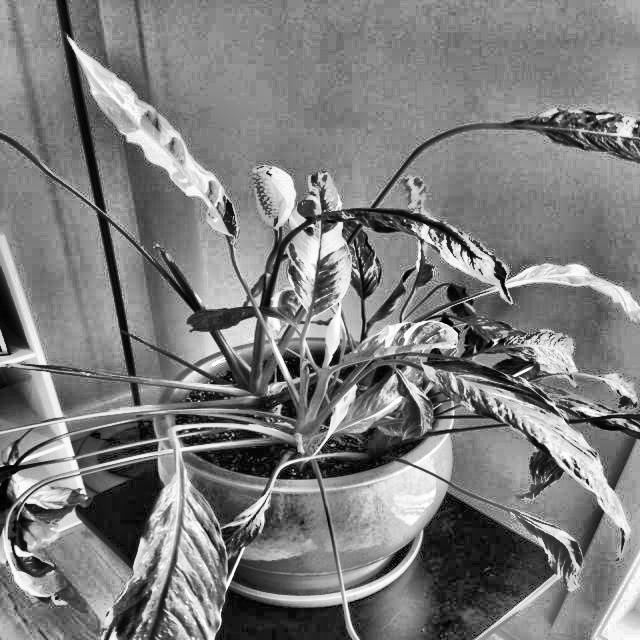plants: (18, 48, 640, 640), (336, 308, 640, 620), (0, 398, 106, 634)
